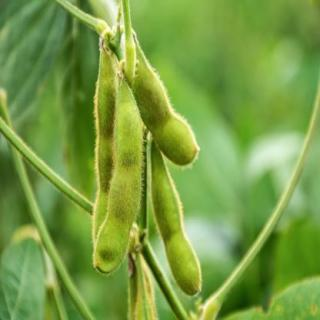soya: (94, 87, 142, 279), (150, 143, 202, 297), (136, 40, 200, 163), (91, 53, 116, 242)
